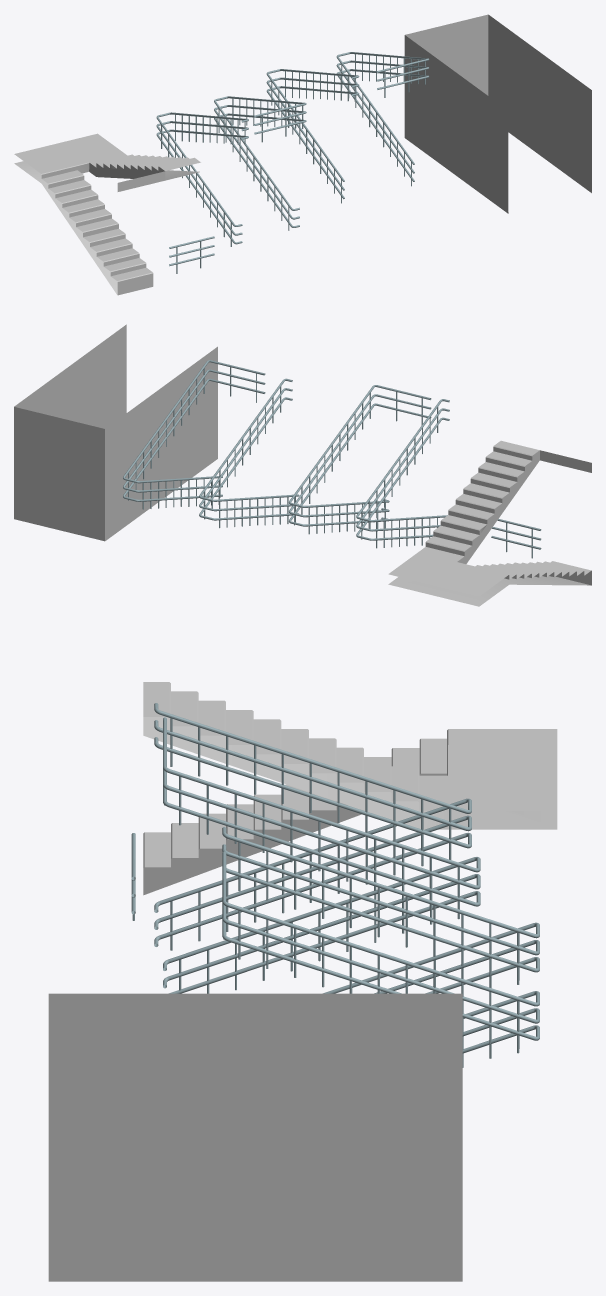
The model's file is FBX_Stairs_Combine.fbx.
3 renders of one model, top to bottom at view 1: azimuth 30°, elevation 25°; view 2: azimuth 150°, elevation 25°; view 3: azimuth 270°, elevation 25°, orthographic. The views are drawn at different scales.
Visible parts, largest first — view 1: SM_Stairs_walls, SM_Stairs, SM_Stairs_rails_B, SM_Stairs_rails_D, SM_tairs_rails_A, SM_Stairs_rails_C, SM_Stairs_balustrade; view 2: SM_Stairs_walls, SM_Stairs, SM_Stairs_rails_D, SM_Stairs_rails_B, SM_Stairs_rails_C, SM_tairs_rails_A, SM_Stairs_balustrade; view 3: SM_Stairs_walls, SM_Stairs, SM_Stairs_rails_B, SM_tairs_rails_A, SM_Stairs_rails_C, SM_Stairs_rails_D.
Part boxes in pixels (x1,y1,x2,y2): SM_Stairs_walls: (404,14,591,213); SM_Stairs: (14,133,200,295); SM_Stairs_rails_B: (214,96,306,230); SM_Stairs_rails_D: (336,52,429,186); SM_tairs_rails_A: (156,112,248,246); SM_Stairs_rails_C: (266,69,359,203); SM_Stairs_balustrade: (169,236,214,273); SM_Stairs_walls: (14,324,217,541); SM_Stairs: (388,440,591,606); SM_Stairs_rails_D: (123,360,265,509); SM_Stairs_rails_B: (289,385,431,534); SM_Stairs_rails_C: (199,378,299,528); SM_tairs_rails_A: (356,399,449,548); SM_Stairs_balustrade: (491,519,541,558); SM_Stairs_walls: (48,993,462,1281); SM_Stairs: (143,682,557,895); SM_Stairs_rails_B: (163,717,480,993); SM_tairs_rails_A: (154,703,471,950); SM_Stairs_rails_C: (222,827,539,993); SM_Stairs_rails_D: (222,851,539,1067).
Size of the model in its own units: 15.09 by 4.51 by 7.37.
